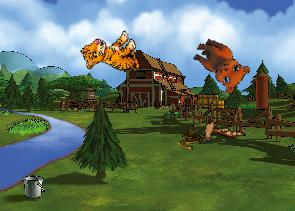bear: (184, 34, 254, 97)
eagle: (188, 104, 246, 157)
tiger: (78, 24, 145, 87)
